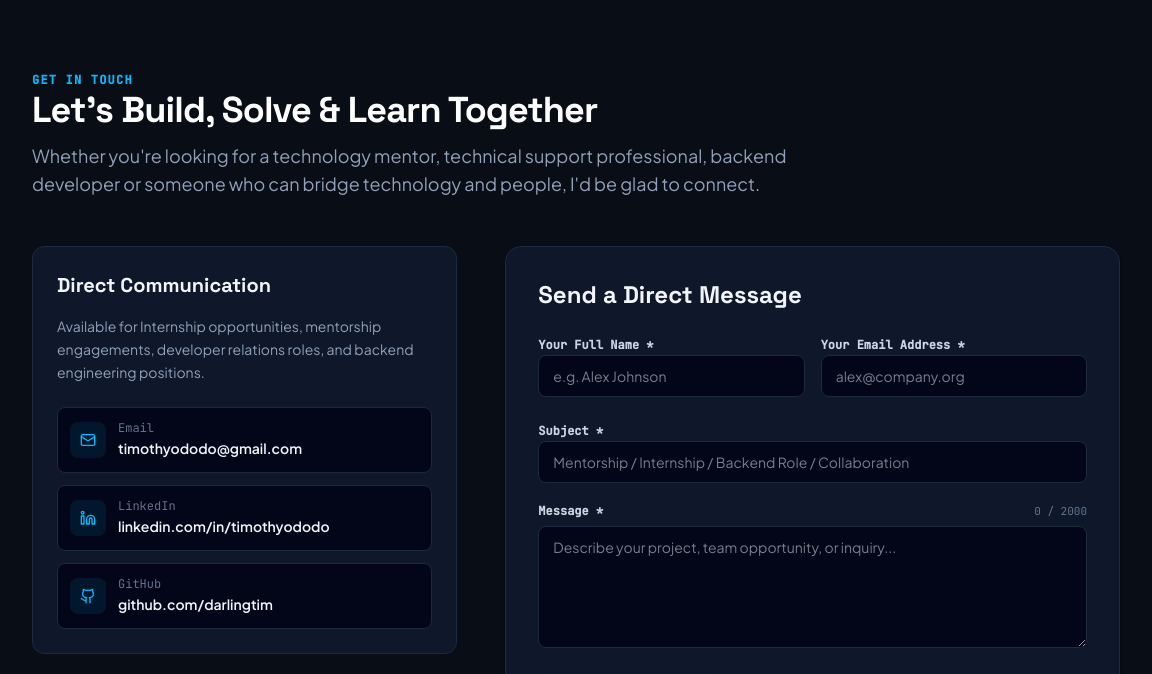
Scenario: ContactView Component Integration Tests › submits contact form and displays success confirmation
Type "Dr. Jane Smith" into the field with placeholder "e.g. Alex Johnson". click: (671, 376)
box: [538,355,805,397]
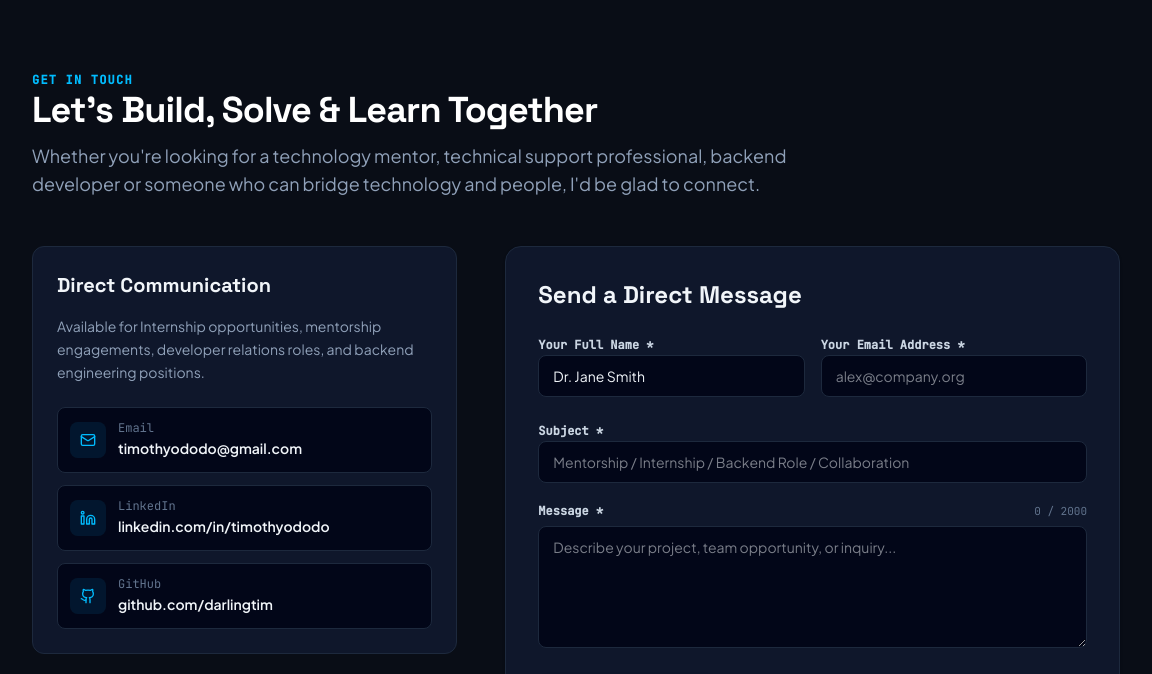
Type "jane@mit.edu" into the field with placeholder "alex@company.org". click: (954, 376)
box: [821,355,1087,397]
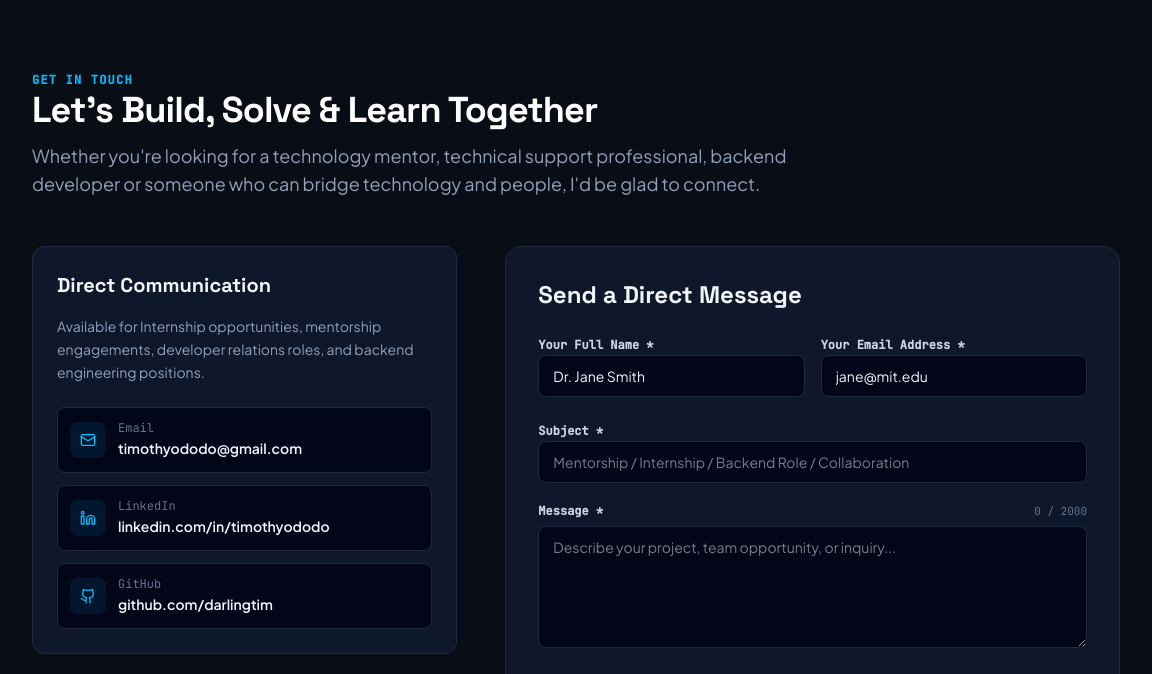
Type "Enterprise Knowledge Graph Project" into the field with placeholder "Mentorship / Internship / Backend Role / Collaboration". click: (813, 462)
box: [538,441,1087,483]
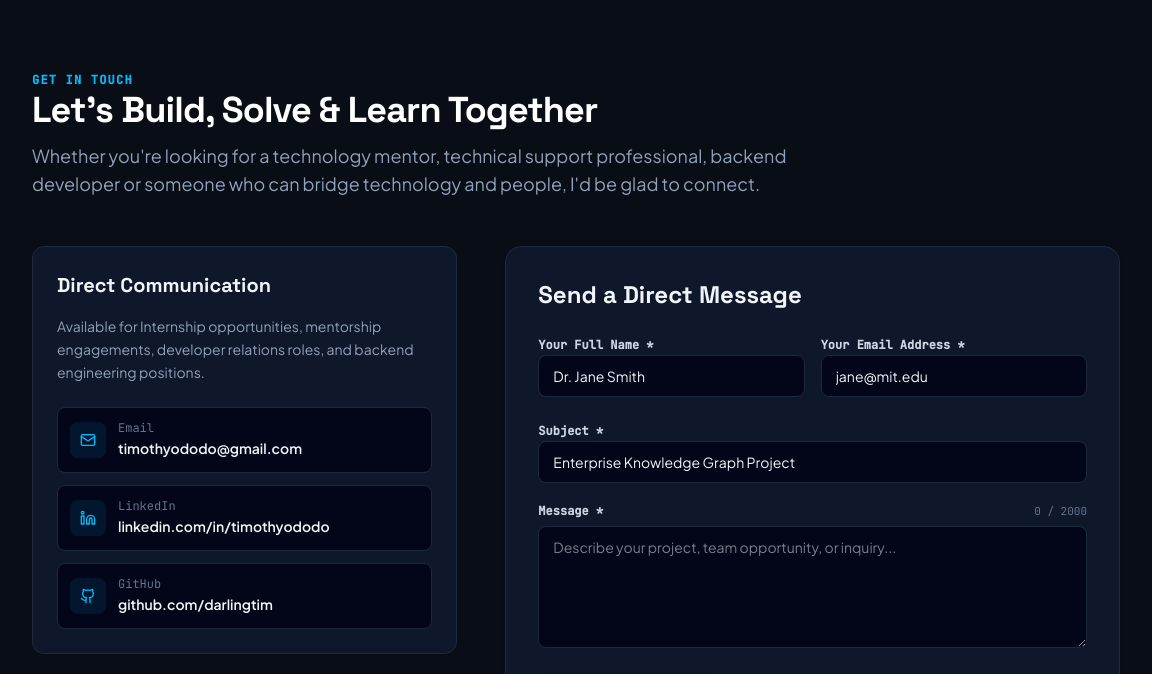
Type "Looking to collaborate on a knowledge platform system architecture." into the text box with placeholder "Describe your project, team opportunity, or inquiry...". click: (813, 586)
box: [538,526,1087,648]
(page scrolled)
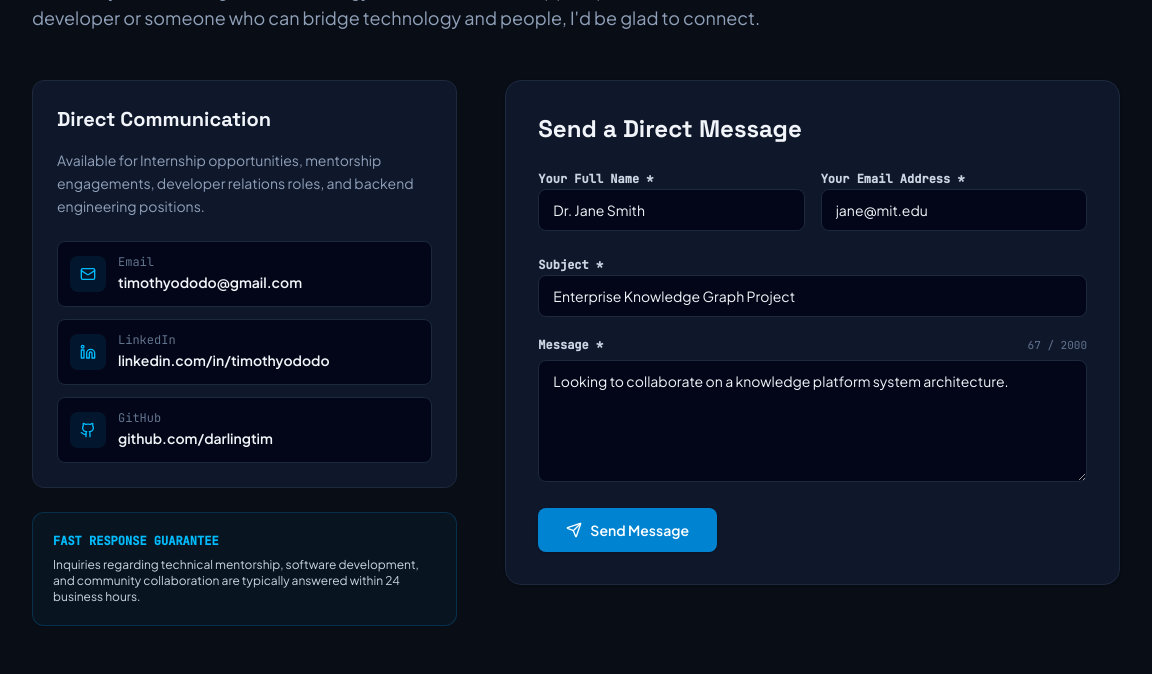
Click the button "Send Message". click: (628, 530)
box: [538,508,717,552]
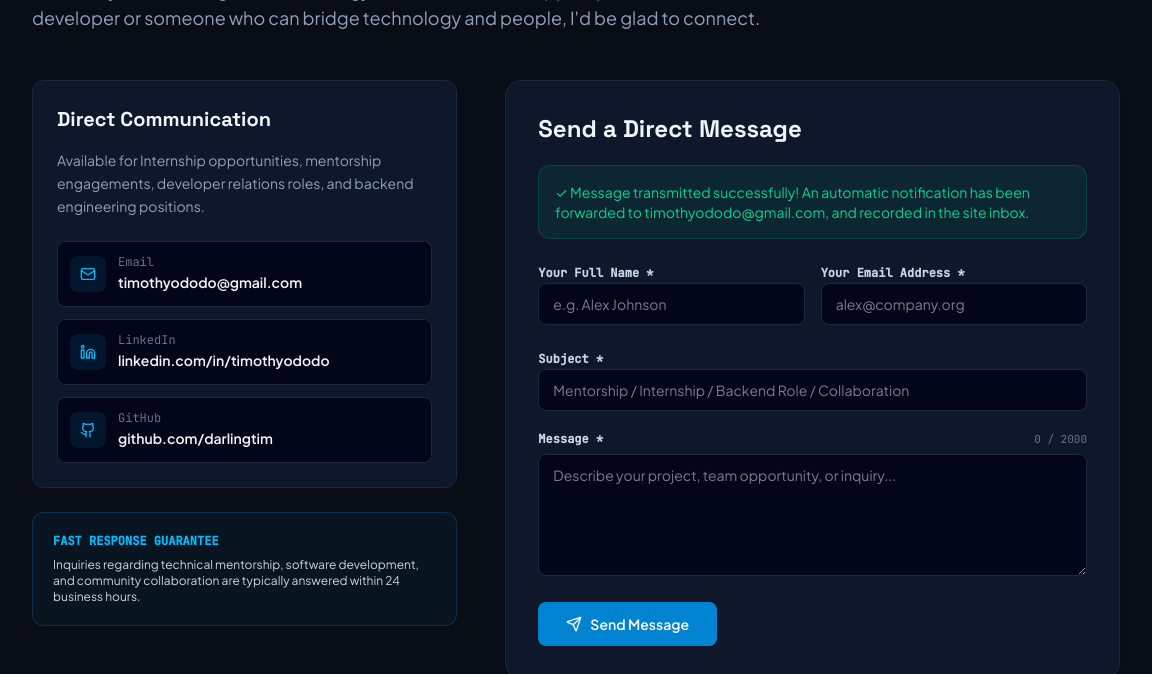
Result: the text "Message transmitted successfully" is shown at [555,183,1030,221]
